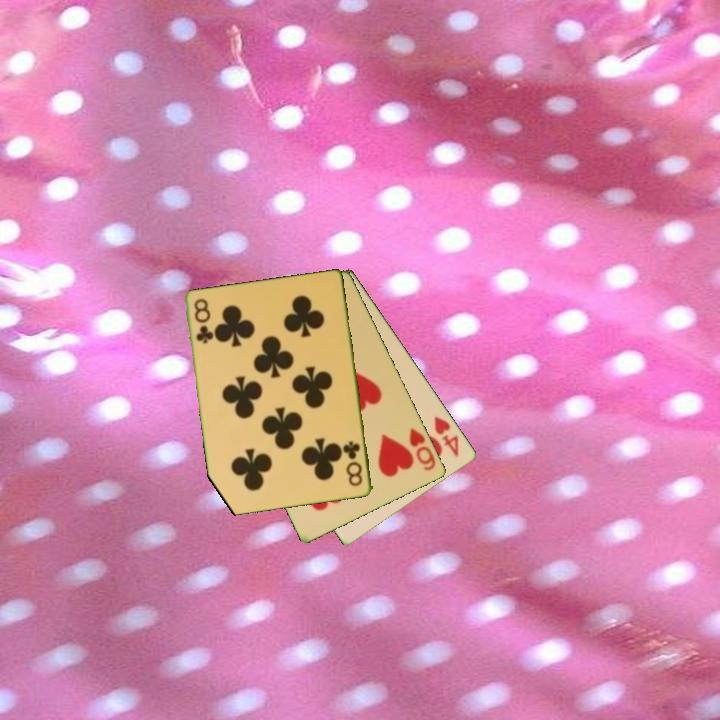4h: (431, 412, 462, 460)
6h: (406, 424, 439, 474)
8c: (340, 438, 366, 489), (191, 295, 215, 347)
